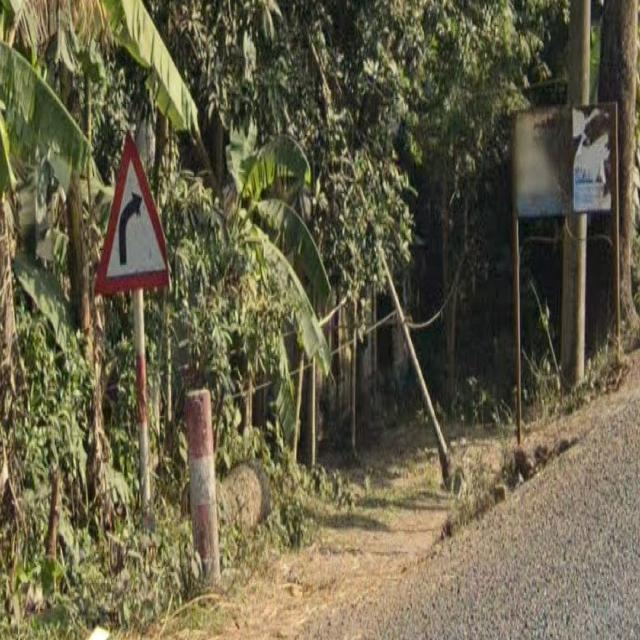Right-turn: (92, 131, 169, 296)
